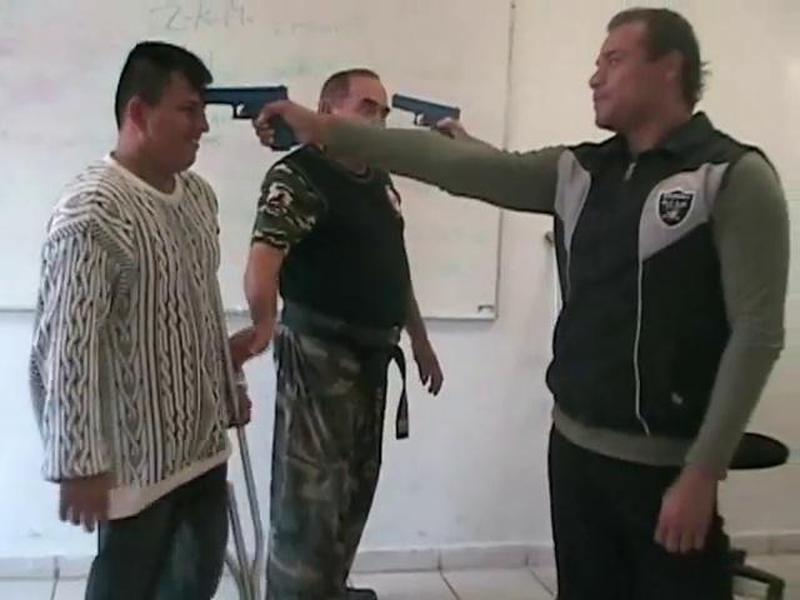Pistola: (205, 78, 307, 159), (387, 91, 470, 149)
